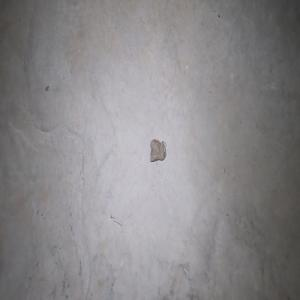Rock: (149, 137, 166, 162)
